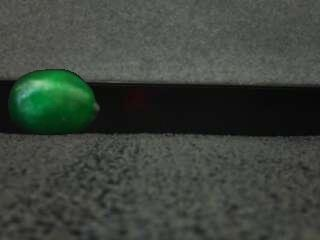Lime: (6, 69, 101, 134)
